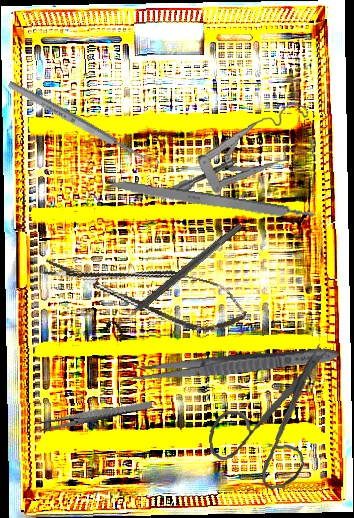Dressing Forceps: (125, 342, 341, 388), (38, 397, 153, 433)
Fixation Ring: (104, 215, 250, 343)
Iris Scissors: (201, 341, 341, 494)
Micro Scissor: (38, 236, 253, 343)
Scalpel Handle: (103, 177, 318, 225)
Speculum: (165, 100, 319, 198)
Surgical Spoon: (6, 78, 161, 172)
